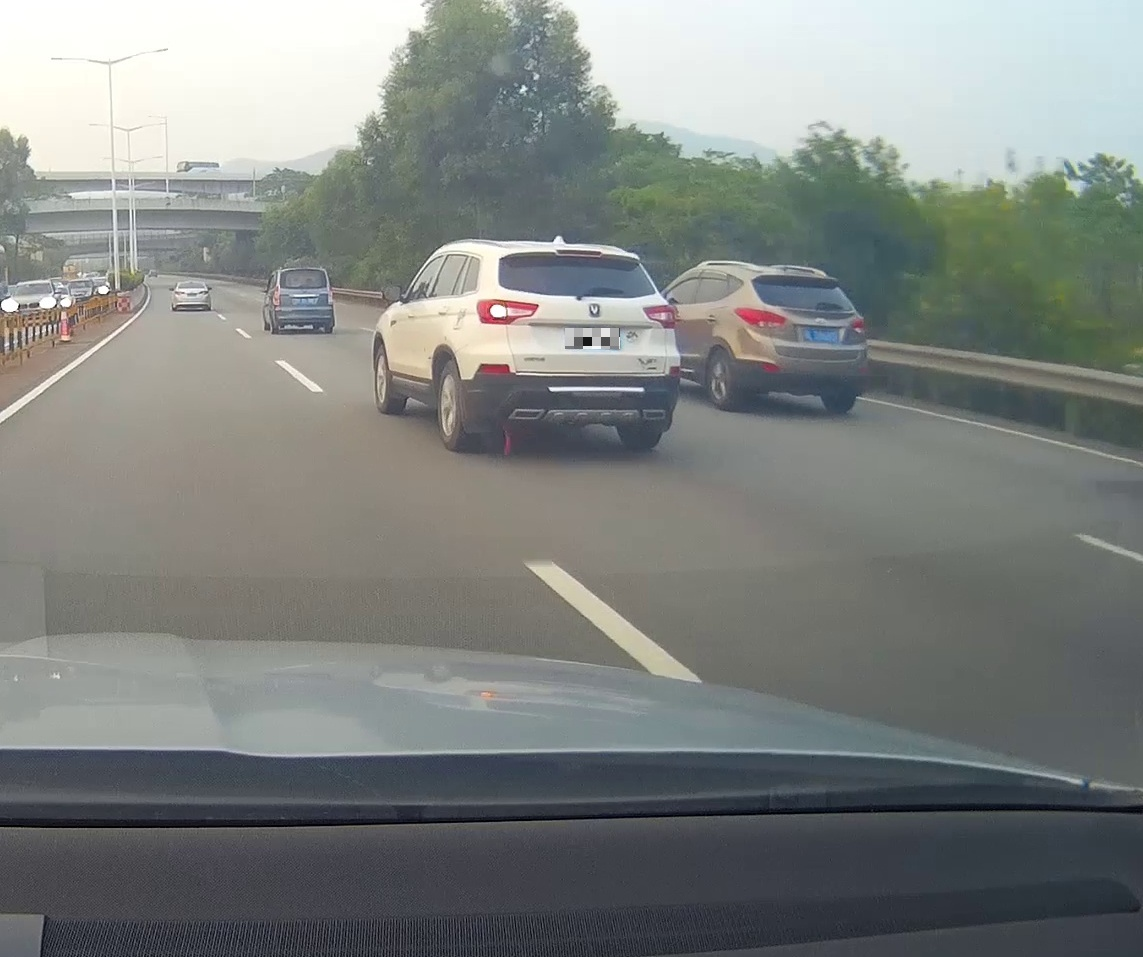L_light: (476, 298, 539, 325), (734, 306, 786, 325), (273, 285, 280, 305), (175, 290, 185, 295)
R_light: (642, 304, 676, 329), (850, 314, 866, 331), (327, 287, 333, 305), (199, 291, 208, 294)
T_light: (556, 249, 601, 257), (800, 276, 822, 283), (299, 284, 310, 287), (188, 282, 195, 285)
day-left: (474, 243, 681, 450)
day-no: (732, 267, 870, 414), (272, 268, 335, 334), (173, 282, 211, 311)
plate_1: (565, 328, 620, 349)
